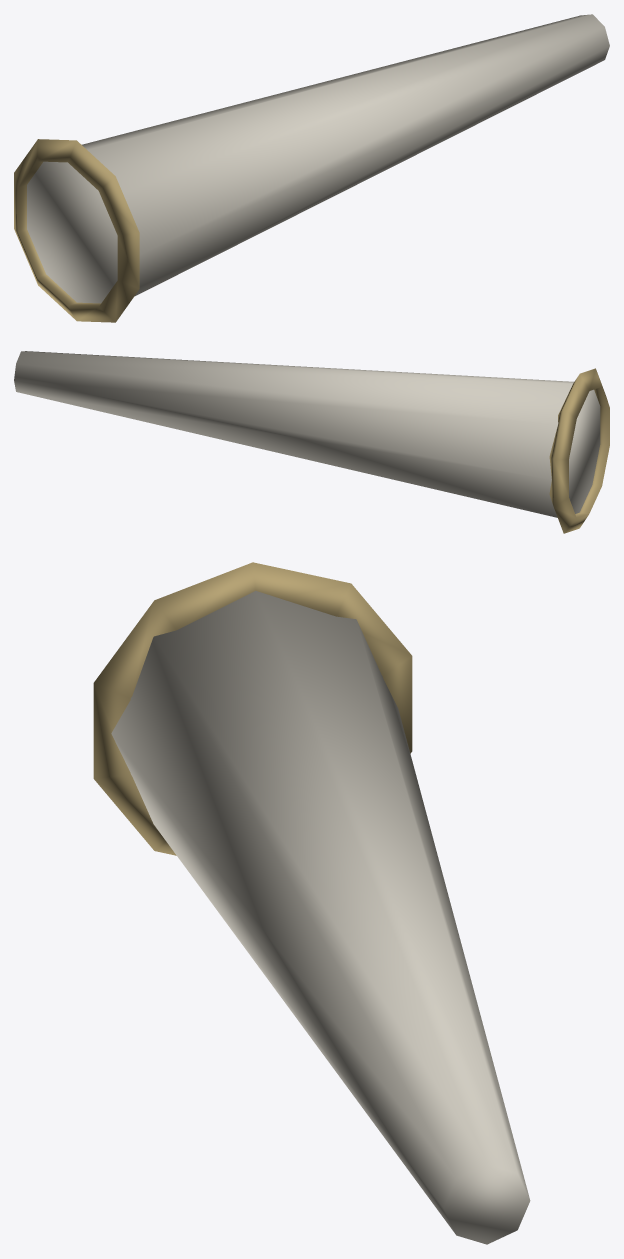
Rendered from horn_fragment.glb.
The picture shows the model from 3 angles, top to bottom: view 1: azimuth 30°, elevation 25°; view 2: azimuth 150°, elevation 25°; view 3: azimuth 270°, elevation 25°; orthographic projection. The views are drawn at different scales.
Visible parts, largest first — view 1: horn_fragment; view 2: horn_fragment; view 3: horn_fragment.
Boxes of the visible parts, bbox=[...] form: horn_fragment: bbox=[14, 14, 609, 322]; horn_fragment: bbox=[14, 351, 609, 533]; horn_fragment: bbox=[93, 562, 530, 1244].
Bounding box in the file's own units: 0.4105 × 0.116 × 0.1482.
